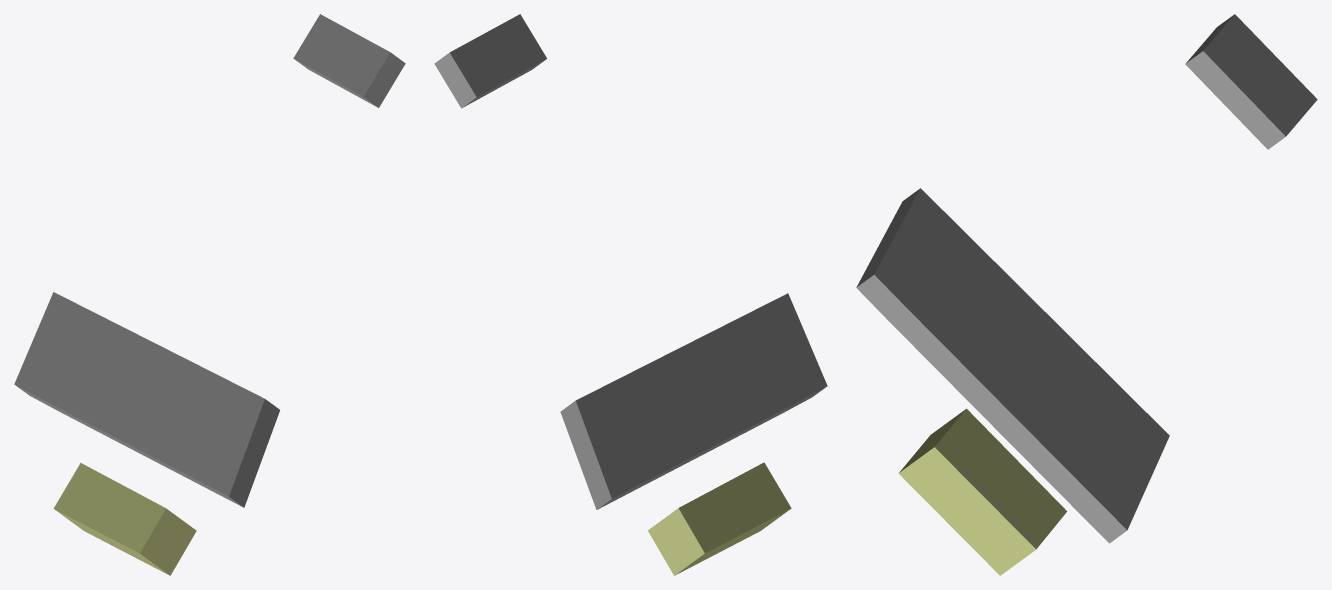
3 views of the same model, side by side, from view 1: azimuth 30°, elevation 25°; view 2: azimuth 150°, elevation 25°; view 3: azimuth 330°, elevation 25° (orthographic). The views are drawn at different scales.
Parts seen in each view (by area): view 1: 0_2_3_2_2_3_1_3; view 2: 0_2_3_2_2_3_1_3; view 3: 0_2_3_2_2_3_1_3.
Boxes of the visible parts, x1=… form: 0_2_3_2_2_3_1_3: x1=14, y1=14, x2=405, y2=575; 0_2_3_2_2_3_1_3: x1=434, y1=14, x2=827, y2=575; 0_2_3_2_2_3_1_3: x1=856, y1=14, x2=1317, y2=575.
Bounding box in the file's own units: 42.59 × 54.22 × 6.
